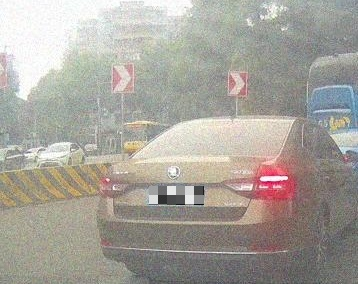L_light: (98, 174, 125, 197)
R_light: (256, 174, 291, 198)
T_light: (219, 122, 246, 128)
day-right: (95, 116, 294, 284)
plate_1: (149, 186, 204, 205)
